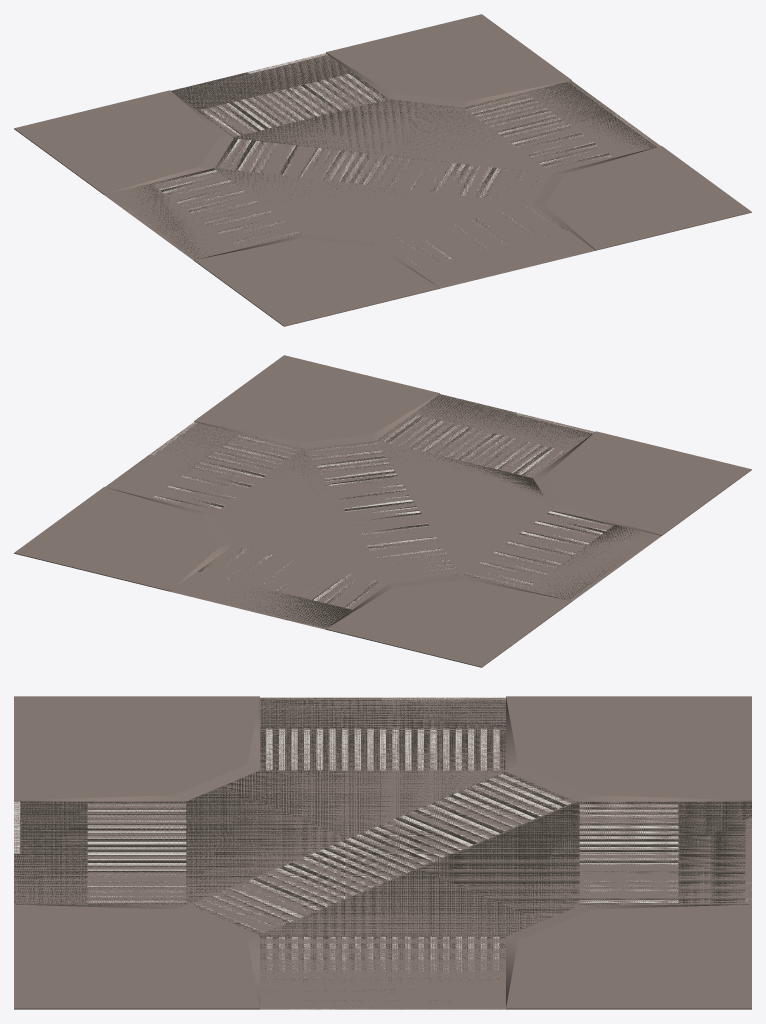
Rendered from Env_3lane_Cross.fbx.
The picture shows the model from 3 angles, top to bottom: view 1: azimuth 30°, elevation 25°; view 2: azimuth 150°, elevation 25°; view 3: azimuth 270°, elevation 25°; orthographic projection. The views are drawn at different scales.
Visible parts, largest first — view 1: Env_3lane_Cross; view 2: Env_3lane_Cross; view 3: Env_3lane_Cross.
Boxes of the visible parts, x1,y1,x2,y2 form: Env_3lane_Cross: (14, 14, 751, 326); Env_3lane_Cross: (14, 355, 751, 667); Env_3lane_Cross: (14, 696, 751, 1009).
Bounding box in the file's own units: 6000 × 10 × 6000.
